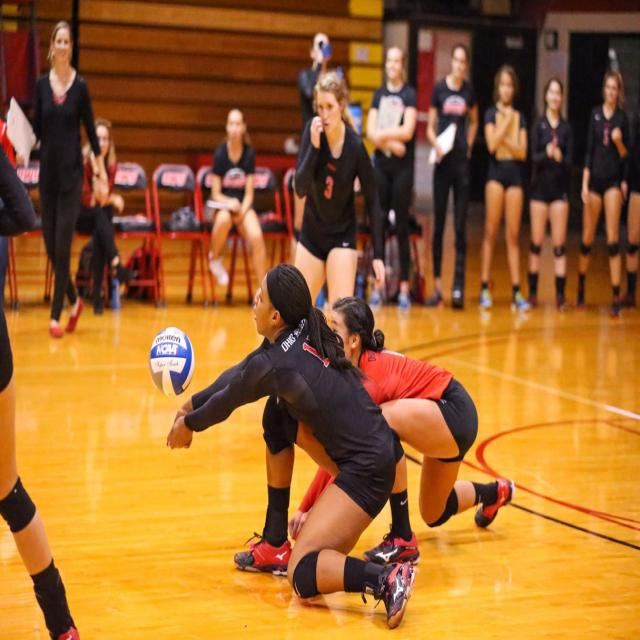body: (165, 258, 418, 634), (286, 292, 518, 568), (0, 113, 86, 639), (13, 18, 108, 341), (292, 71, 386, 318), (424, 38, 480, 316), (364, 41, 416, 314), (480, 61, 532, 318), (575, 68, 627, 320), (73, 116, 136, 317), (207, 106, 270, 293), (526, 74, 573, 316), (298, 30, 333, 132), (622, 178, 640, 317)
